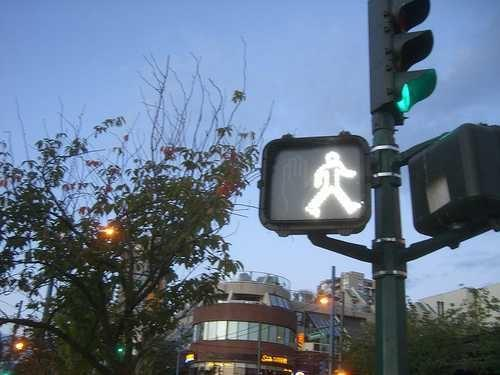green: (258, 133, 370, 231)
